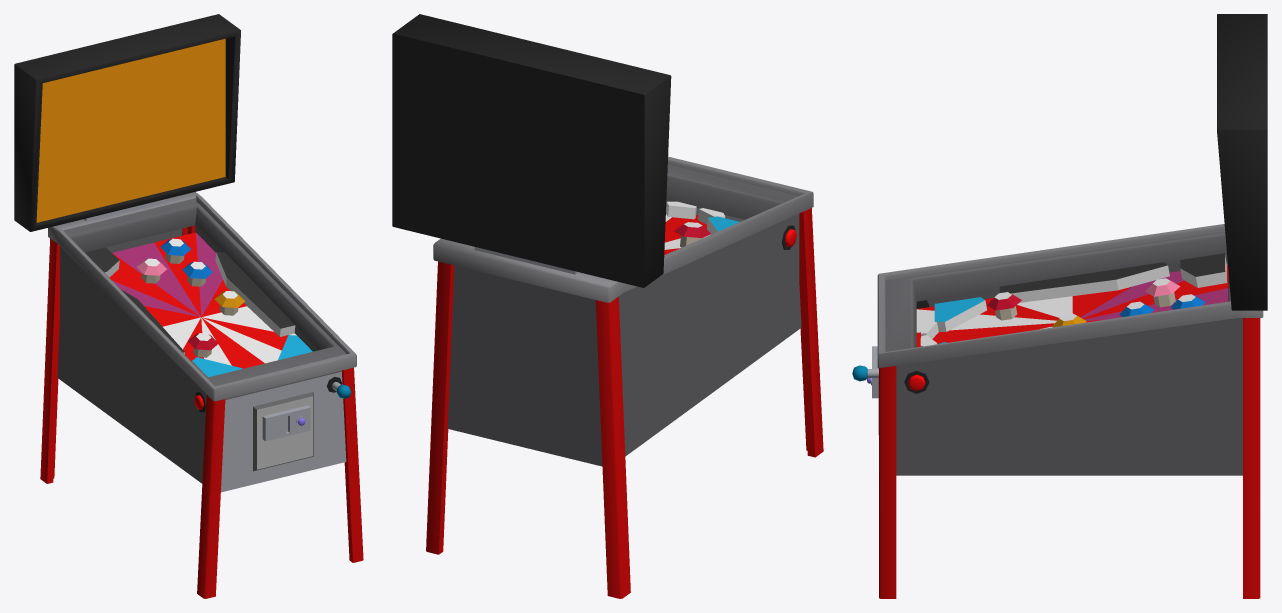
Rendered from Pinball01.glb.
The picture shows the model from 3 angles, left to right: view 1: azimuth 30°, elevation 25°; view 2: azimuth 150°, elevation 25°; view 3: azimuth 270°, elevation 25°; orthographic projection. The views are drawn at different scales.
Visible parts, largest first — view 1: flipper 1; view 2: flipper 1; view 3: flipper 1.
Part boxes in pixels (x1,y1,x2,y2): flipper 1: [14, 14, 363, 598]; flipper 1: [392, 14, 823, 598]; flipper 1: [852, 14, 1267, 598].
Bounding box in the file's own units: 1.03 × 2 × 1.56.
3 materials, 3 textured.
